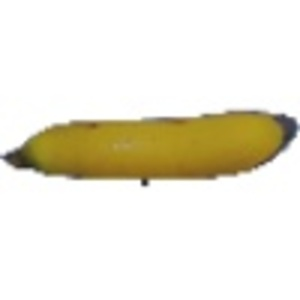banana: (1, 102, 298, 183)
